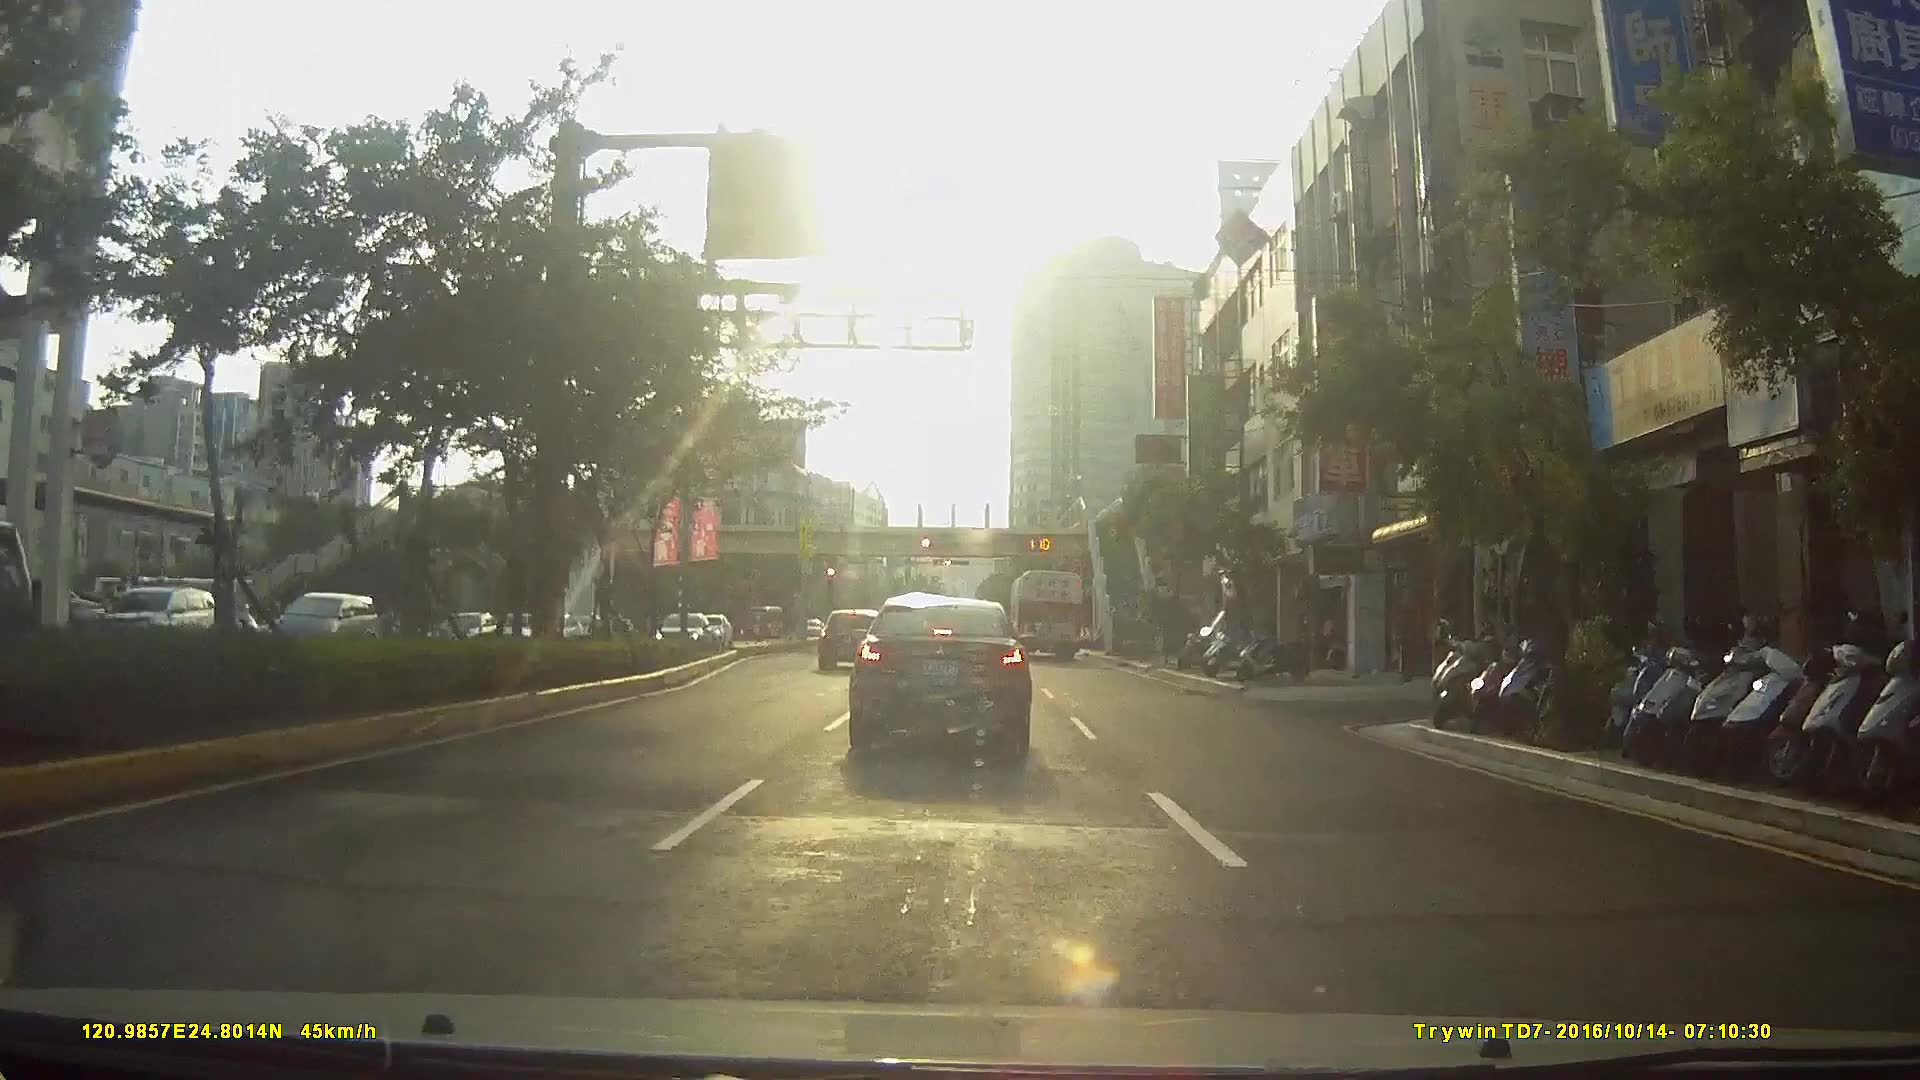vehicle: (845, 593, 1033, 757), (11, 524, 131, 684), (1006, 566, 1087, 662), (264, 591, 376, 654), (818, 604, 886, 673), (651, 609, 712, 651)
